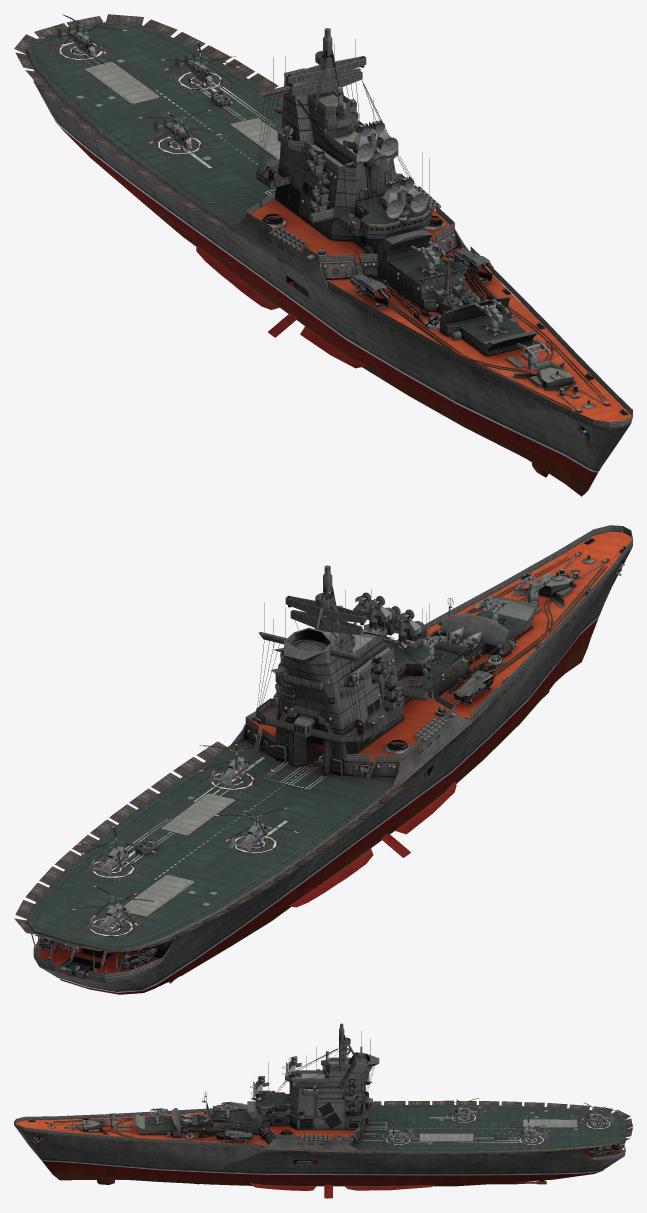
The picture shows the model from 3 angles, top to bottom: view 1: azimuth 30°, elevation 25°; view 2: azimuth 150°, elevation 25°; view 3: azimuth 270°, elevation 25°; orthographic projection. The views are drawn at different scales.
Parts seen in each view (by area): view 1: Object_7, Object_3, Object_6, Object_4, Object_5, Object_2, Object_8; view 2: Object_7, Object_3, Object_6, Object_4, Object_5, Object_8; view 3: Object_7, Object_3, Object_6, Object_4, Object_5, Object_8.
Boxes of the visible parts, left/top/right/bottom form: Object_7: left=26, top=23, right=630, bottom=496; Object_3: left=27, top=20, right=631, bottom=421; Object_6: left=14, top=14, right=632, bottom=428; Object_4: left=34, top=23, right=627, bottom=438; Object_5: left=40, top=14, right=240, bottom=150; Object_2: left=353, top=128, right=427, bottom=218; Object_8: left=293, top=147, right=494, bottom=306; Object_7: left=26, top=546, right=632, bottom=994; Object_3: left=27, top=531, right=631, bottom=980; Object_6: left=14, top=525, right=632, bottom=980; Object_4: left=35, top=537, right=626, bottom=978; Object_5: left=71, top=744, right=298, bottom=933; Object_8: left=39, top=641, right=495, bottom=969; Object_7: left=16, top=1023, right=626, bottom=1198; Object_3: left=15, top=1041, right=626, bottom=1165; Object_6: left=14, top=1035, right=632, bottom=1160; Object_4: left=29, top=1051, right=623, bottom=1153; Object_5: left=373, top=1098, right=618, bottom=1141; Object_8: left=215, top=1057, right=614, bottom=1165.
Bounding box in the file's own units: 0.5638 × 0.8014 × 2.8.
6 materials, 6 textured.
